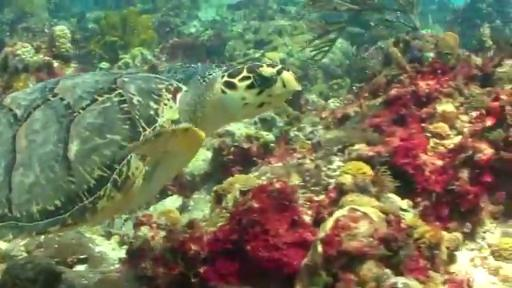Fish: (0, 64, 300, 239)
